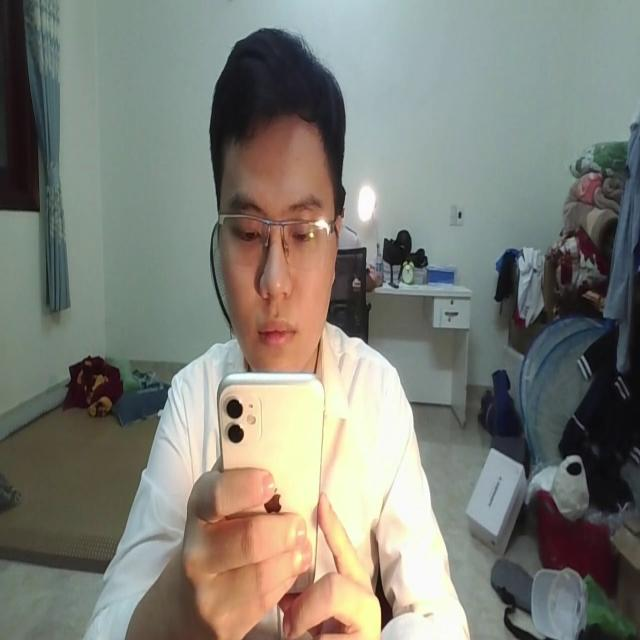phone: (215, 361, 323, 590)
student: (80, 26, 475, 640)
